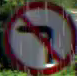Don't turn left: (5, 2, 76, 73)
